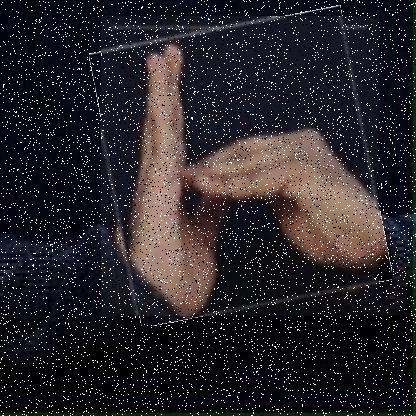Z: (101, 16, 382, 317)
